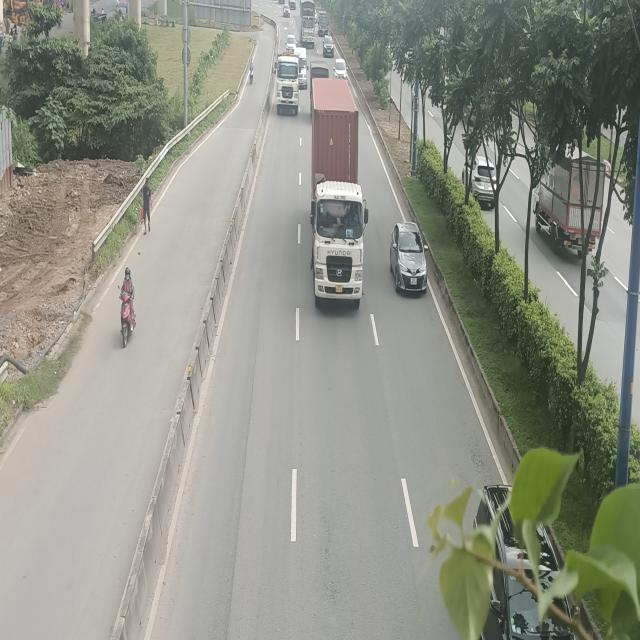car: (391, 222, 428, 294), (333, 58, 349, 81), (322, 36, 334, 56)
container: (310, 77, 368, 309), (274, 54, 301, 116)
truck: (300, 0, 315, 48), (317, 11, 329, 36)
van: (296, 47, 308, 89)
